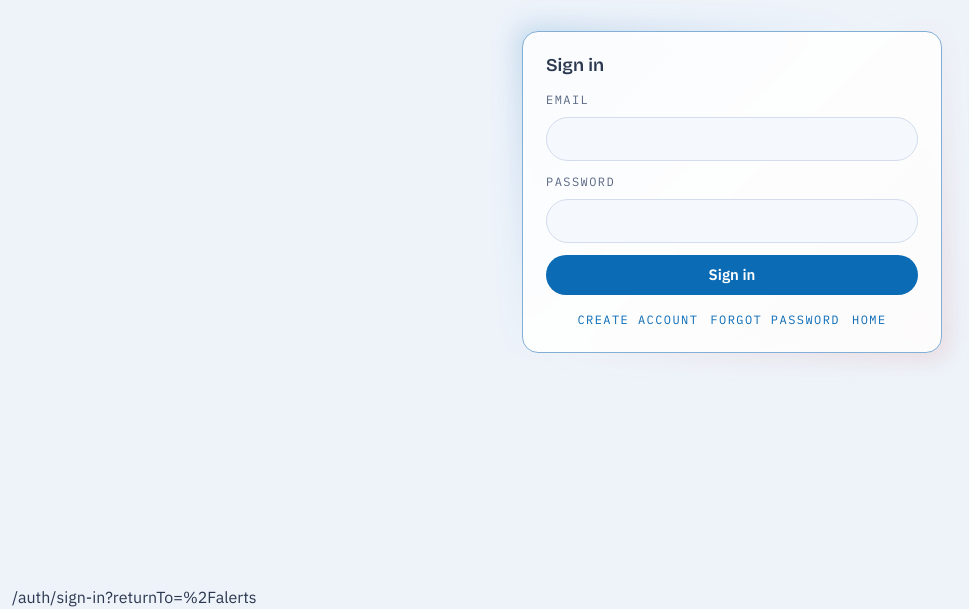
Scenario: SignInPage › stores tokens and navigates to returnTo on success
The image size is (969, 609).
Type " Person@Example " into the field labelled "Email" at (732, 139), box [546,117,918,161]
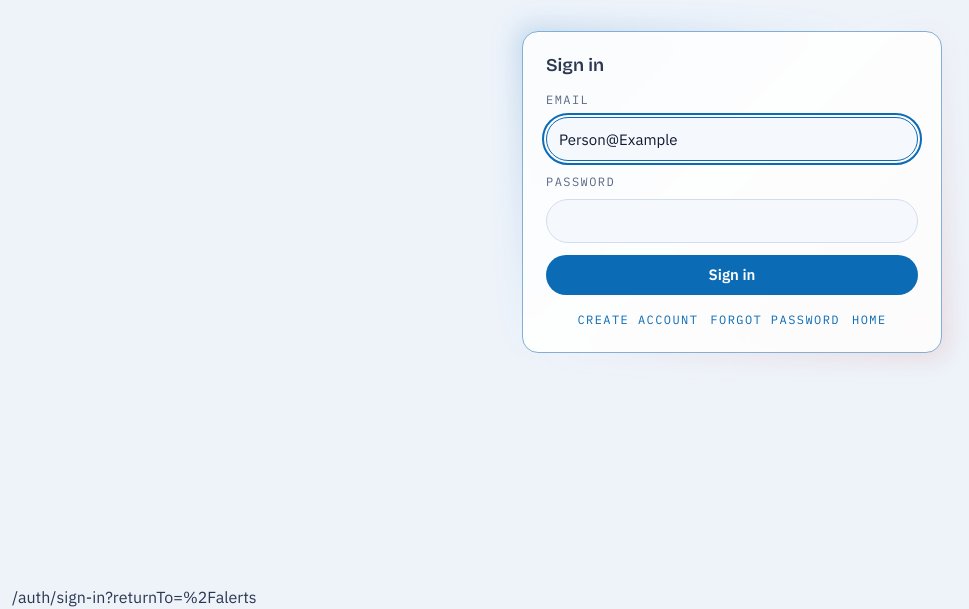
Type "hunter22hunter" into the password field labelled "Password" at (732, 221), box [546,199,918,243]
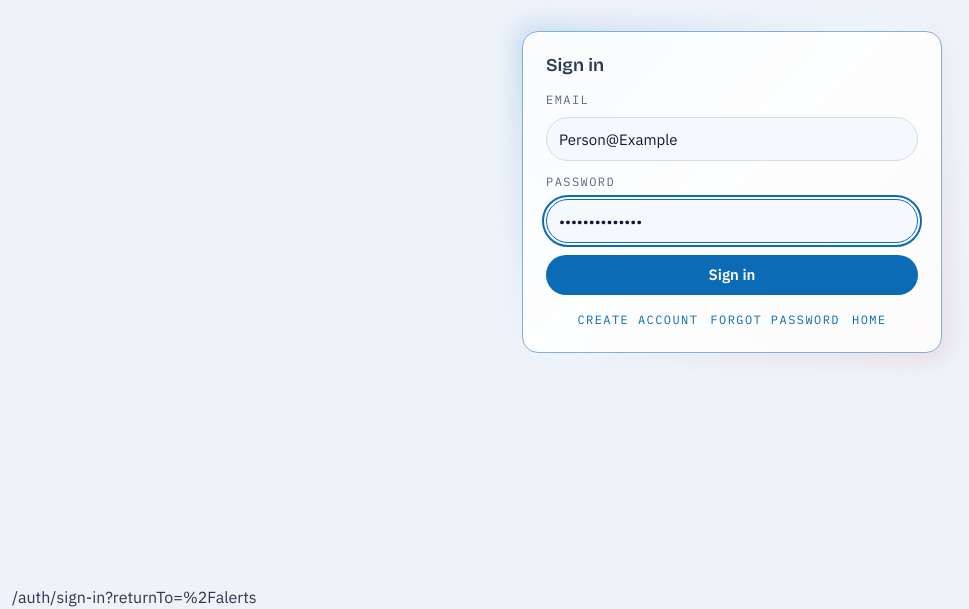
Click the button with test id "auth-submit" at (732, 275), box [546,255,918,295]
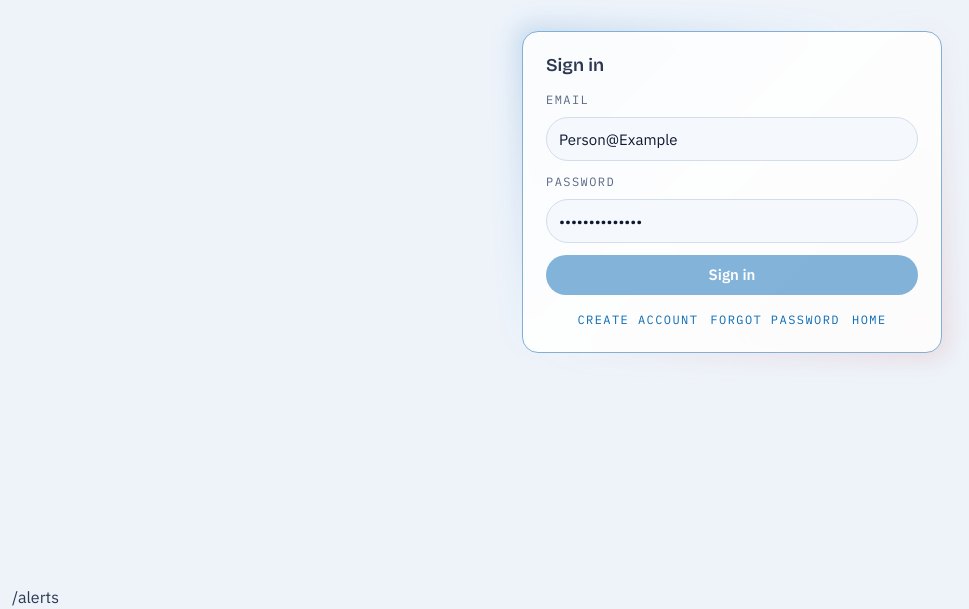
expect the text with test id "here" reads "/alerts": met, box [12,587,59,607]
